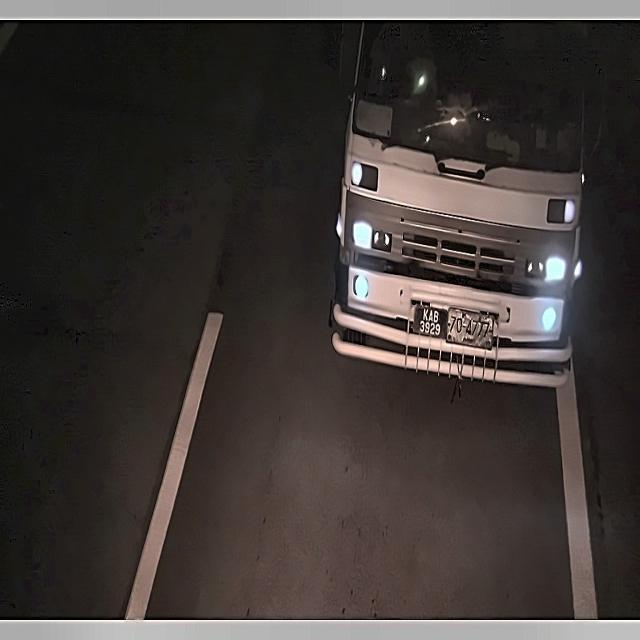car: (412, 296, 502, 363)
